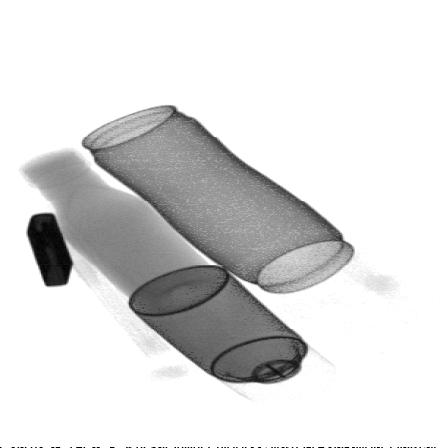Lighter: (25, 212, 75, 287)
Sprayer: (128, 264, 341, 407)
